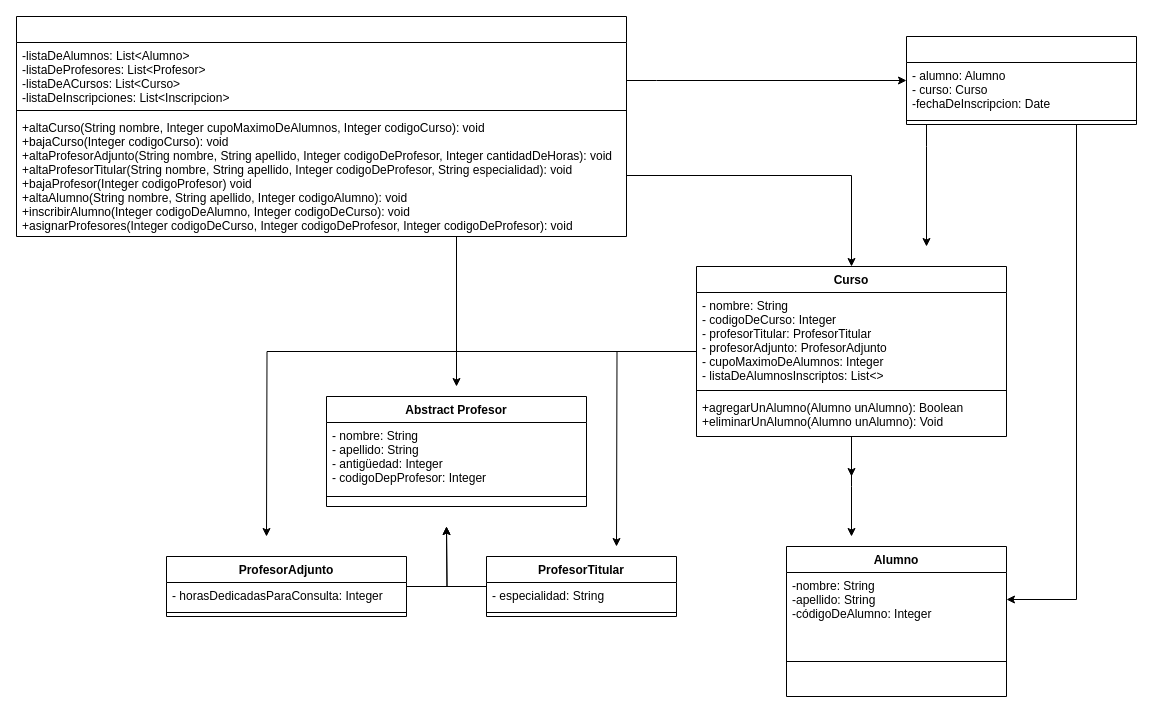
Image size: 1153x713. Some labels were removed from this diagram. Here are the shapes that lost their labels. From the top down, the box of each, then its label:
(906, 36, 1136, 124): Inscripción
(16, 16, 626, 236): DigitalHouseManager
